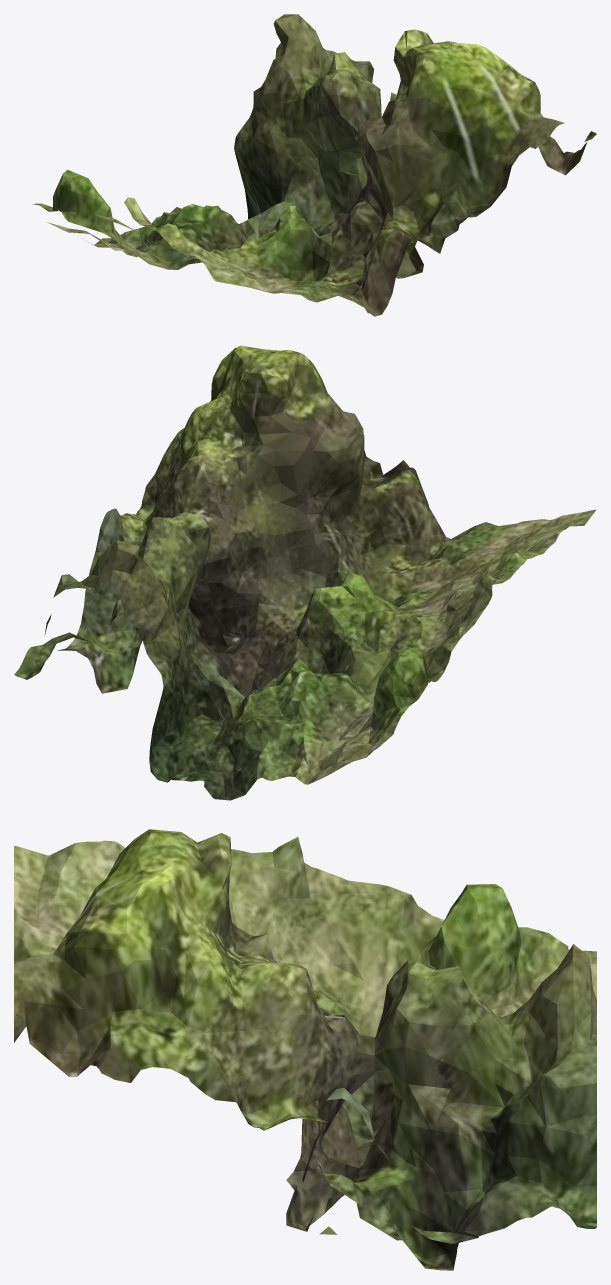
3 renders of one model, top to bottom at view 1: azimuth 30°, elevation 25°; view 2: azimuth 150°, elevation 25°; view 3: azimuth 270°, elevation 25°, orthographic. The views are drawn at different scales.
Size of the model in its own units: 5.9 by 4.73 by 5.9.
4 materials, 4 textured.
